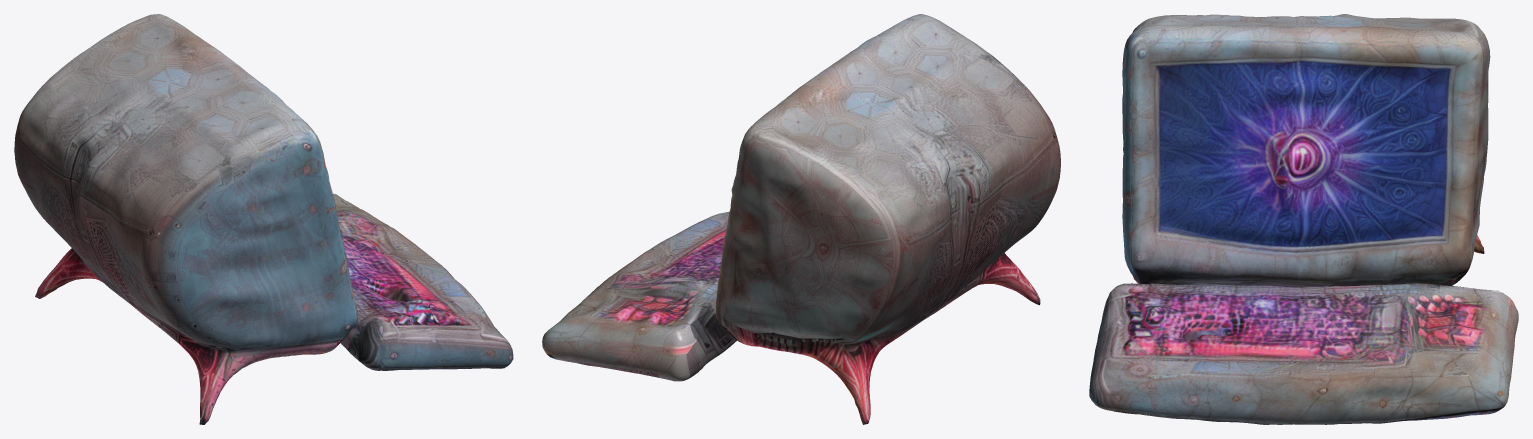
The picture shows the model from 3 angles, left to right: view 1: azimuth 30°, elevation 25°; view 2: azimuth 150°, elevation 25°; view 3: azimuth 270°, elevation 25°; orthographic projection. The views are drawn at different scales.
Parts seen in each view (by area): view 1: Mesh_0; view 2: Mesh_0; view 3: Mesh_0.
Part boxes in pixels (<box>): Mesh_0: <box>14,14,513,424</box>; Mesh_0: <box>542,14,1060,424</box>; Mesh_0: <box>1089,14,1518,424</box>.
Size of the model in its own units: 120 by 90.41 by 118.
1 material, 1 textured.
